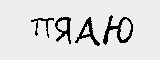А: (75, 13, 100, 49)
Т: (39, 15, 56, 41), (29, 15, 43, 39)
Ю: (101, 13, 134, 45)
Я: (52, 12, 73, 50)
